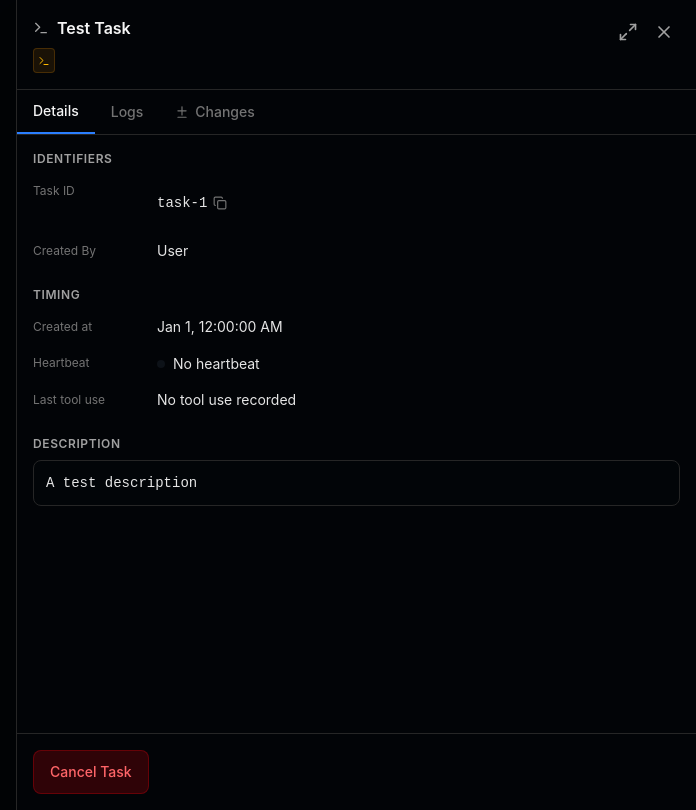
TaskDetailDrawer › cancel confirmation spells out the running consequence (VM cleanup, work discarded)
What coordinates should you click on to do the following:
click the button "Cancel Task"
I would click on:
 (91, 772)
Its box is [33, 750, 149, 794].
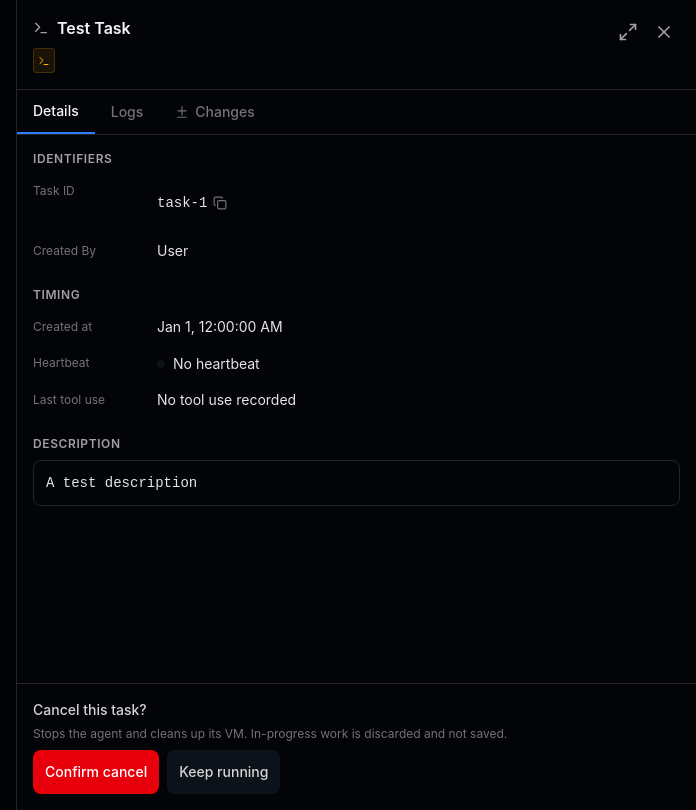
Expected: the text "In-progress work is discarded" is shown, [33, 726, 507, 741]
